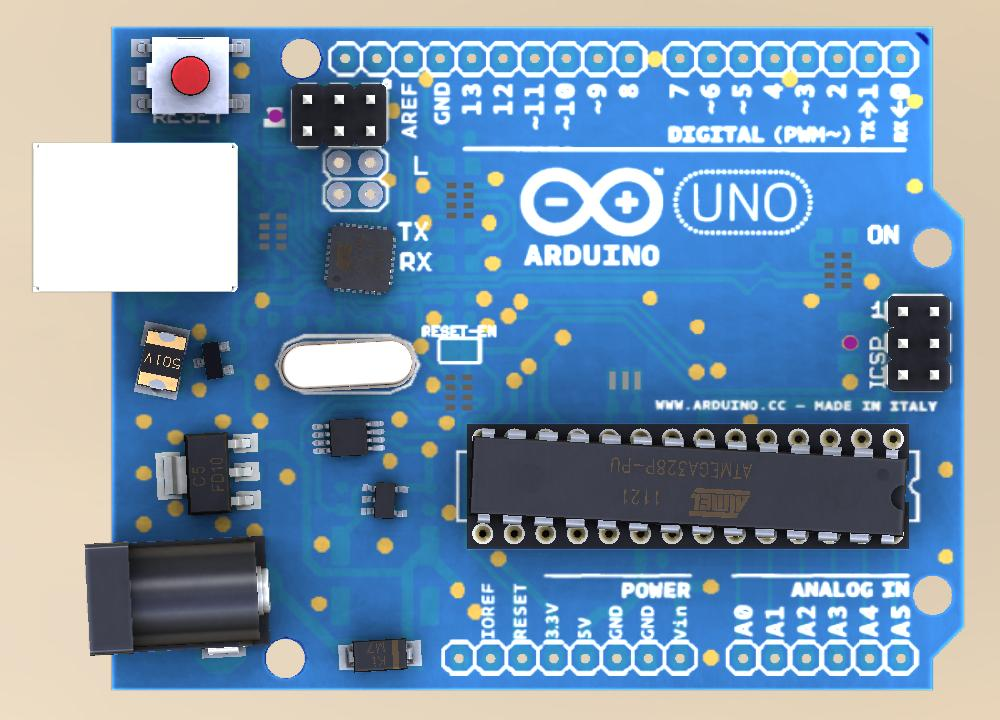ATMEL328P: (466, 423, 908, 549)
ATMega16u2: (321, 220, 400, 300)
Crystal: (272, 331, 422, 397)
Fuse: (133, 318, 191, 406)
M7 diode: (336, 634, 424, 675)
PIN Header: (291, 81, 389, 150), (887, 295, 954, 393)
Power: (81, 538, 272, 660)
Regulator: (126, 412, 273, 537)
Reset: (124, 33, 253, 128)
SSOT3: (359, 479, 413, 522), (192, 338, 240, 382)
USB: (31, 140, 243, 296)
lp2985: (307, 416, 387, 458)
